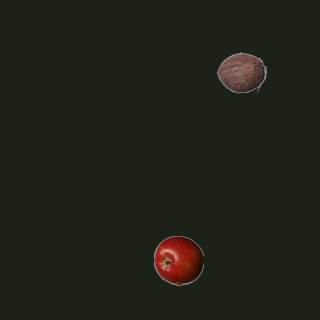Apple Braeburn: (153, 235, 203, 285)
Cocos: (216, 47, 266, 97)
